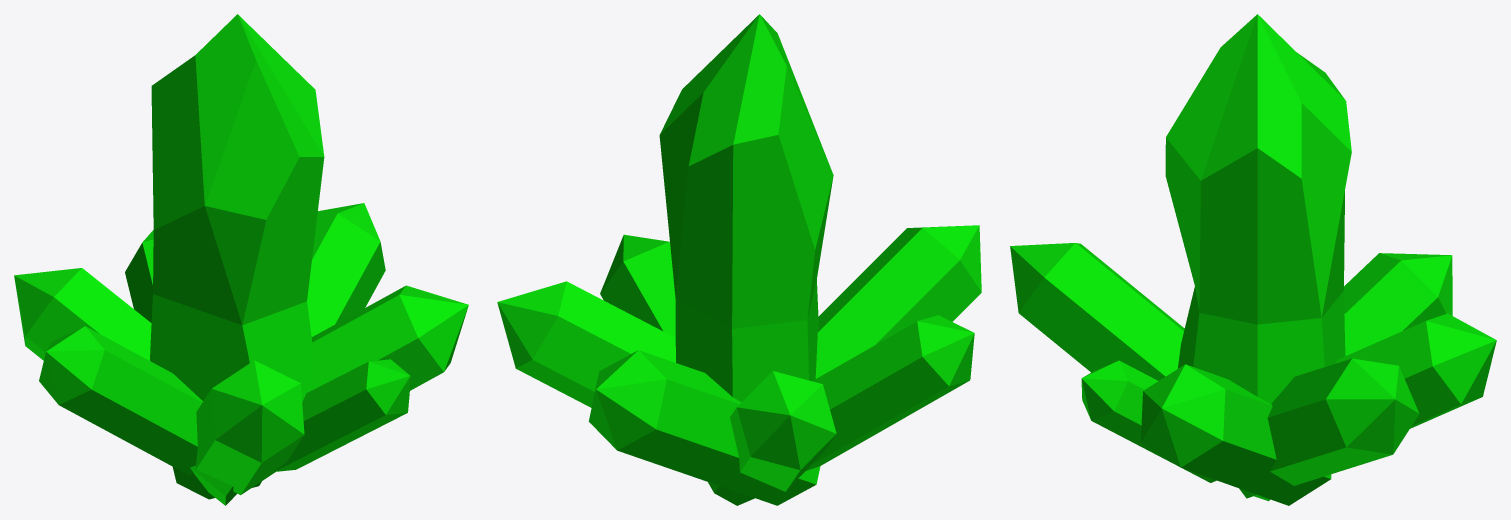
Rendered from cristal.fbx.
The picture shows the model from 3 angles, left to right: view 1: azimuth 30°, elevation 25°; view 2: azimuth 150°, elevation 25°; view 3: azimuth 270°, elevation 25°; orthographic projection.
Parts seen in each view (by area): view 1: polySurface1; view 2: polySurface1; view 3: polySurface1.
Part boxes in pixels (x1,y1,x2,y2): polySurface1: (14, 14, 468, 505); polySurface1: (497, 14, 981, 505); polySurface1: (1010, 14, 1496, 505).
Bounding box in the file's own units: 171 × 198 × 179.
